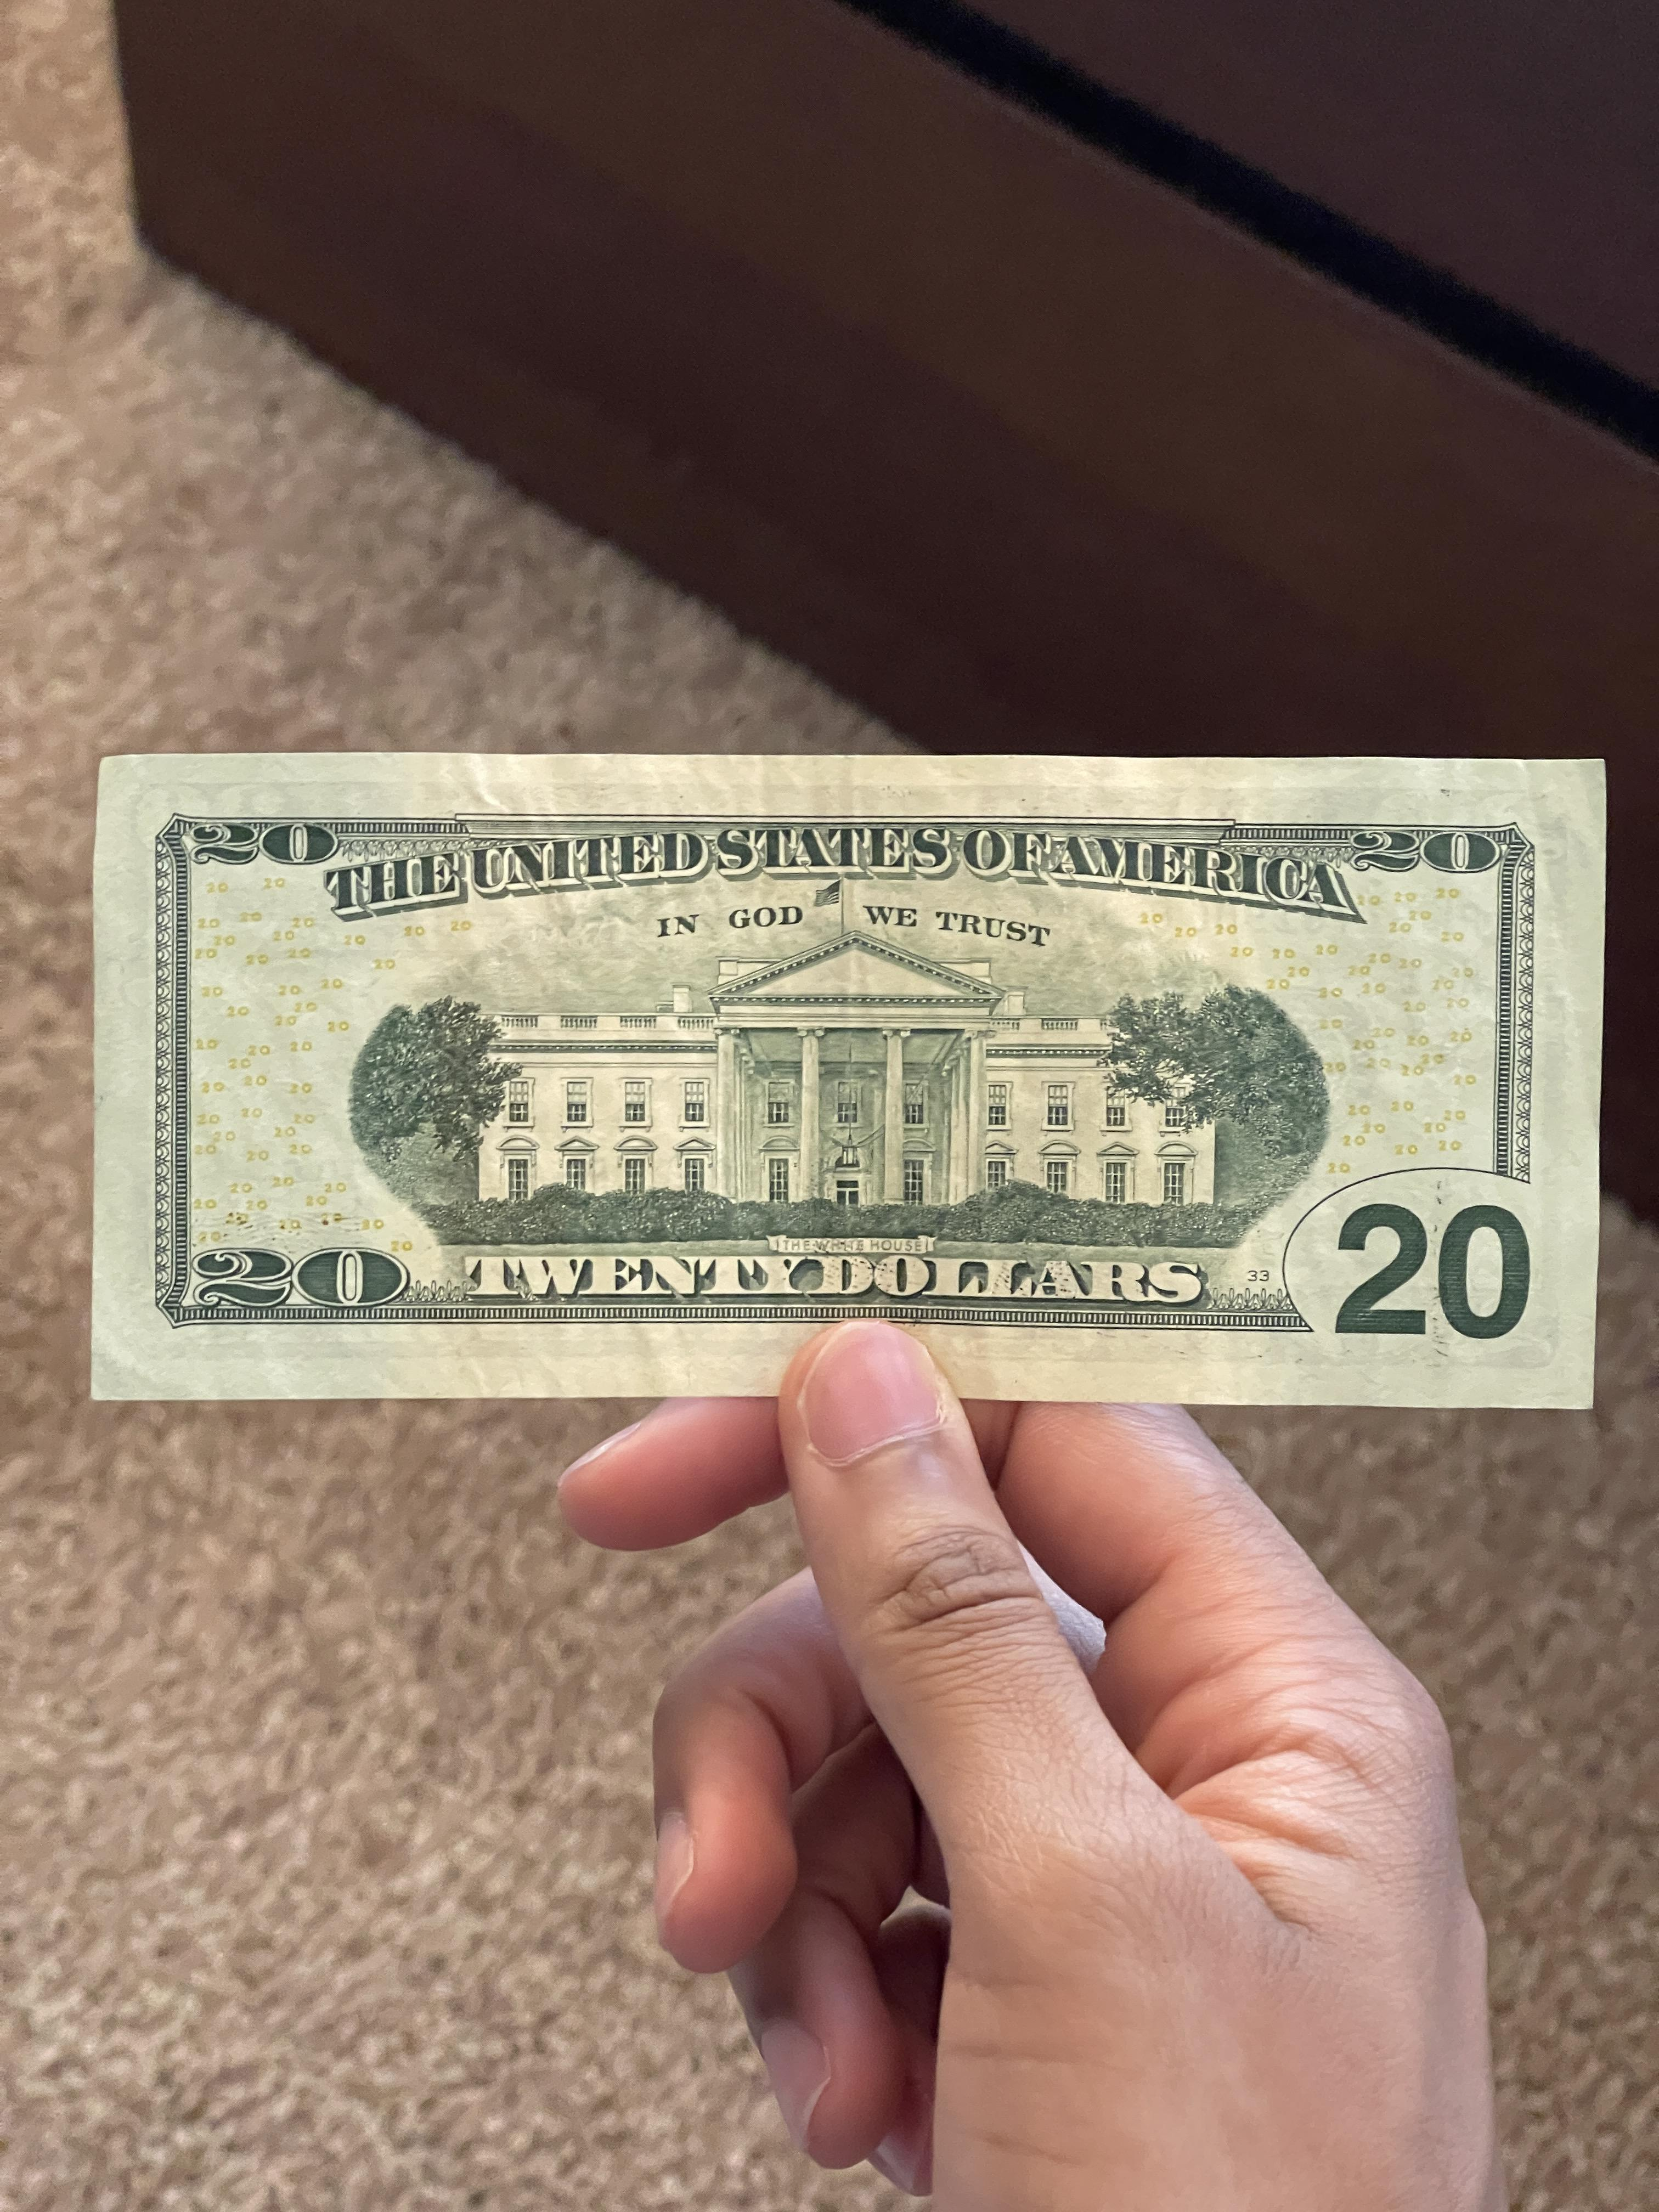TwentyBill: (84, 742, 1617, 1416)
